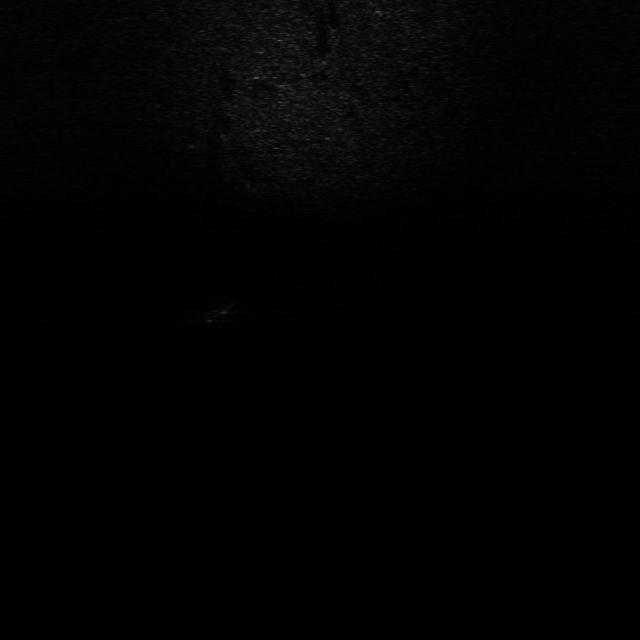human body: (198, 295, 241, 331)
